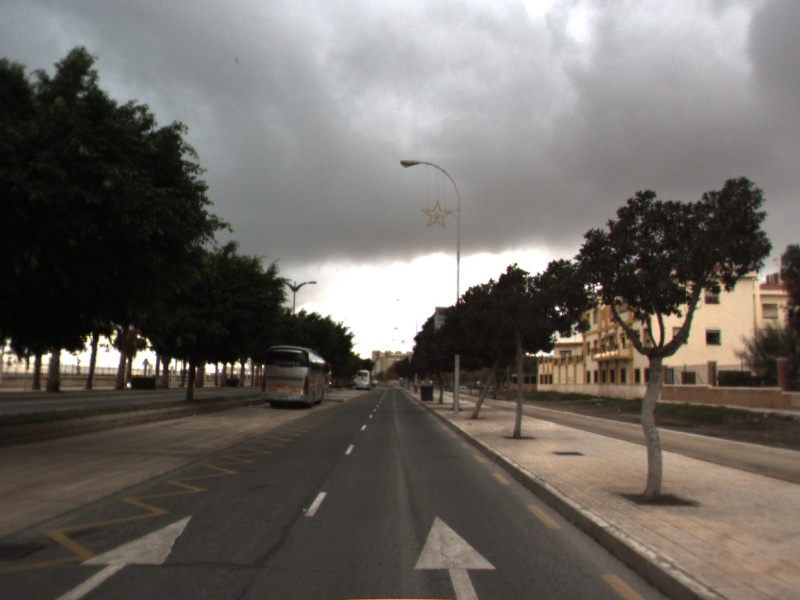STRAIGHT: (56, 511, 197, 600), (411, 511, 499, 600)
